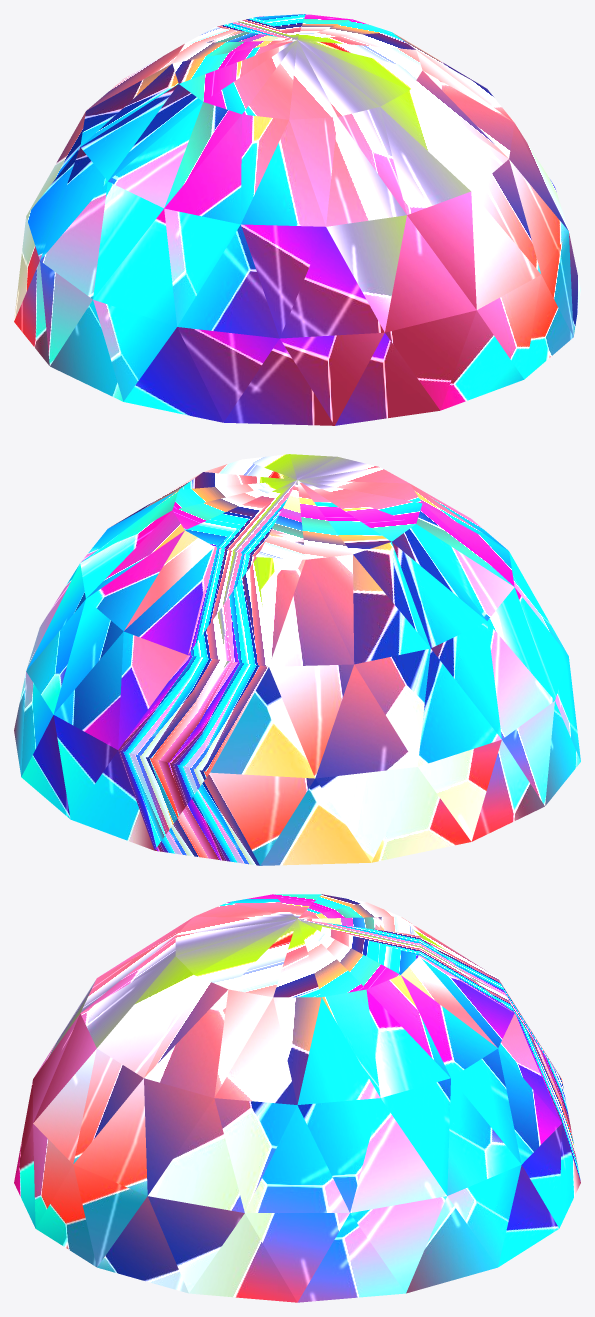
Rendered from capsule_diamond_lid.glb.
3 views of the same model, one above another, from view 1: azimuth 30°, elevation 25°; view 2: azimuth 150°, elevation 25°; view 3: azimuth 270°, elevation 25° (orthographic).
Visible parts, largest first — view 1: Lid; view 2: Lid; view 3: Lid.
Boxes of the visible parts, x1=… form: Lid: x1=14, y1=14, x2=580, y2=425; Lid: x1=14, y1=454, x2=580, y2=865; Lid: x1=14, y1=894, x2=580, y2=1302.
Bounding box in the file's own units: 0.15 × 0.077 × 0.15.
Materials: 2 (1 with a texture image).
